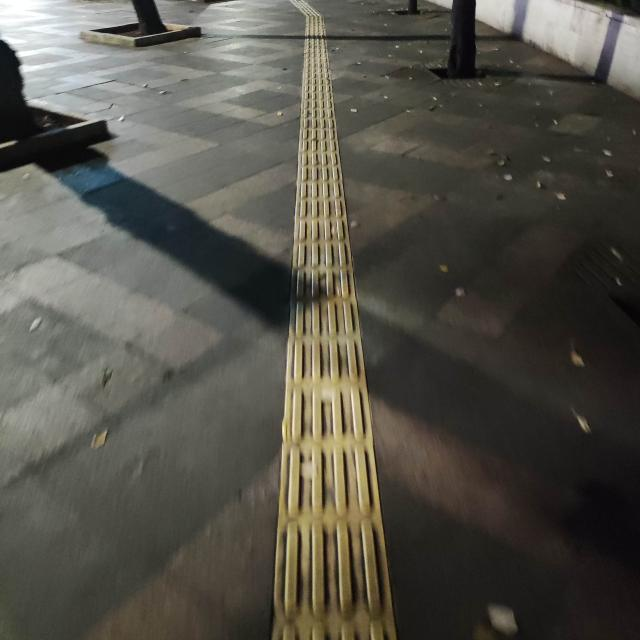lurus: (284, 11, 382, 640)
